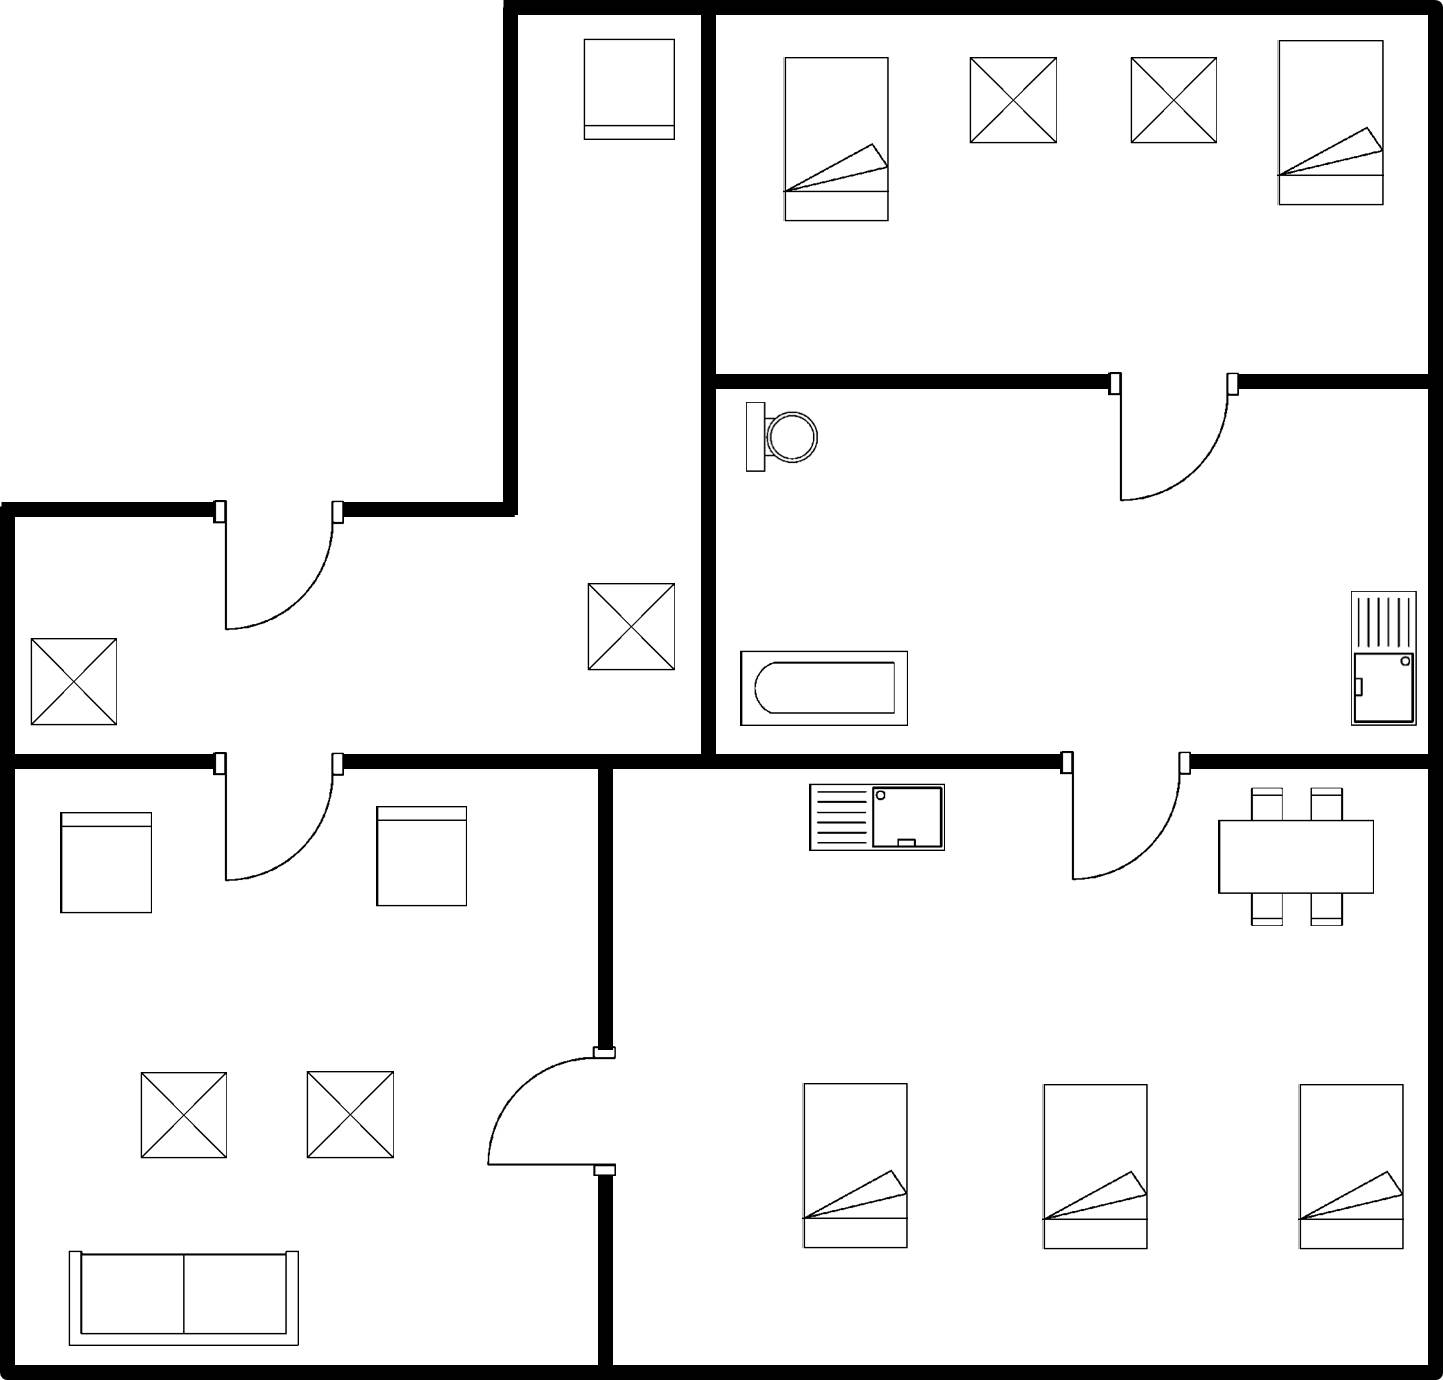bed: (1031, 1076, 1161, 1265), (1288, 1070, 1415, 1264), (773, 49, 902, 235), (1269, 31, 1397, 216), (794, 1073, 919, 1258)
coffee_table: (297, 1062, 411, 1180), (958, 47, 1070, 161), (574, 569, 685, 683), (23, 624, 130, 738), (1117, 47, 1228, 156), (131, 1061, 238, 1172)
dining_table: (1205, 777, 1382, 939)
large_sink: (738, 395, 827, 488)
large_sofa: (57, 1235, 312, 1357)
sink: (1339, 583, 1427, 741), (798, 776, 954, 862)
small_sofa: (362, 796, 480, 923), (51, 797, 165, 922), (574, 28, 682, 151)
